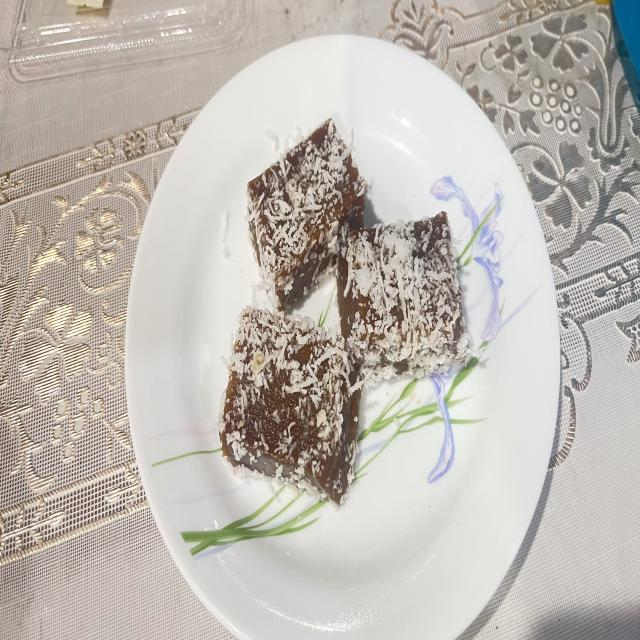kaswi: (220, 307, 360, 502), (248, 118, 366, 311), (338, 211, 469, 384)
